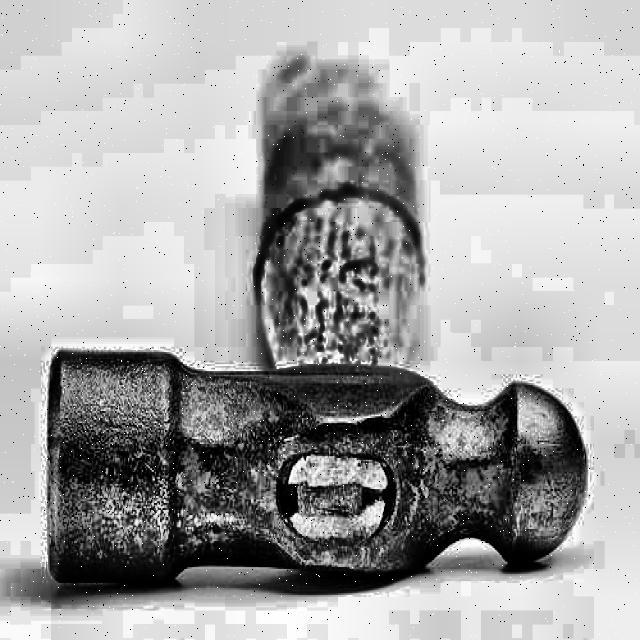hammer: (43, 53, 591, 591)
